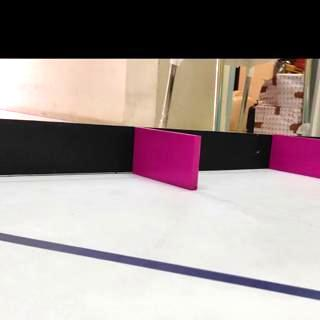xparking: (138, 136, 198, 184), (275, 138, 320, 175)
